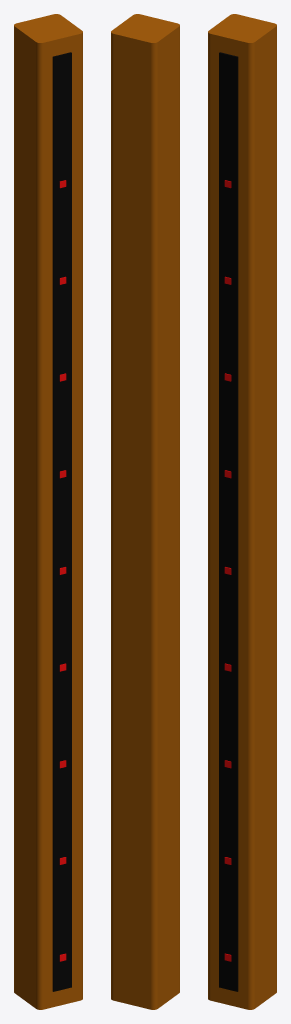
Rendered from light_curtain.glb.
3 views of the same model, side by side, from view 1: azimuth 30°, elevation 25°; view 2: azimuth 150°, elevation 25°; view 3: azimuth 330°, elevation 25° (orthographic).
Visible parts, largest first — view 1: light_curtain; view 2: light_curtain; view 3: light_curtain.
Boxes of the visible parts, box(x1,y1,x2,y2) form: light_curtain: box(14, 14, 82, 1009); light_curtain: box(111, 14, 179, 1009); light_curtain: box(208, 14, 276, 1009).
Size of the model in its own units: 0.03 by 0.6 by 0.0315.
